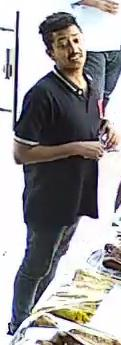no_apron: (36, 30, 104, 228)
